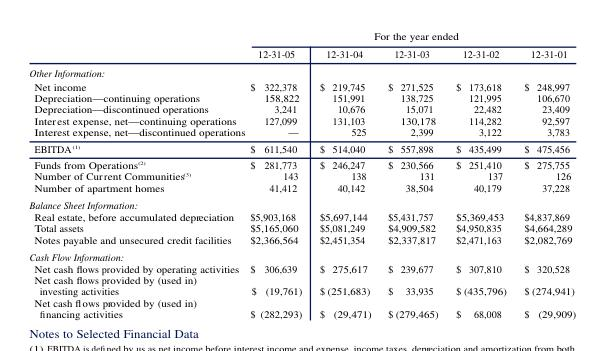table: (28, 28, 575, 319)
table column: (28, 28, 246, 319), (310, 28, 378, 319), (378, 28, 446, 319), (446, 28, 514, 319), (246, 28, 310, 319), (514, 28, 575, 319)
table column header: (28, 28, 575, 62)
table projected row header: (28, 62, 575, 78), (28, 196, 575, 210), (28, 247, 575, 261)
table row: (28, 273, 575, 296), (28, 296, 575, 319), (28, 44, 575, 62), (28, 28, 575, 44), (28, 62, 575, 78), (28, 139, 575, 155), (28, 181, 575, 196), (28, 232, 575, 247), (28, 125, 575, 139), (28, 155, 575, 169), (28, 196, 575, 210), (28, 247, 575, 261), (28, 78, 575, 91), (28, 102, 575, 114), (28, 169, 575, 181), (28, 261, 575, 273), (28, 91, 575, 102), (28, 114, 575, 125), (28, 210, 575, 221), (28, 221, 575, 232)
table spanning cell: (246, 28, 575, 44)
